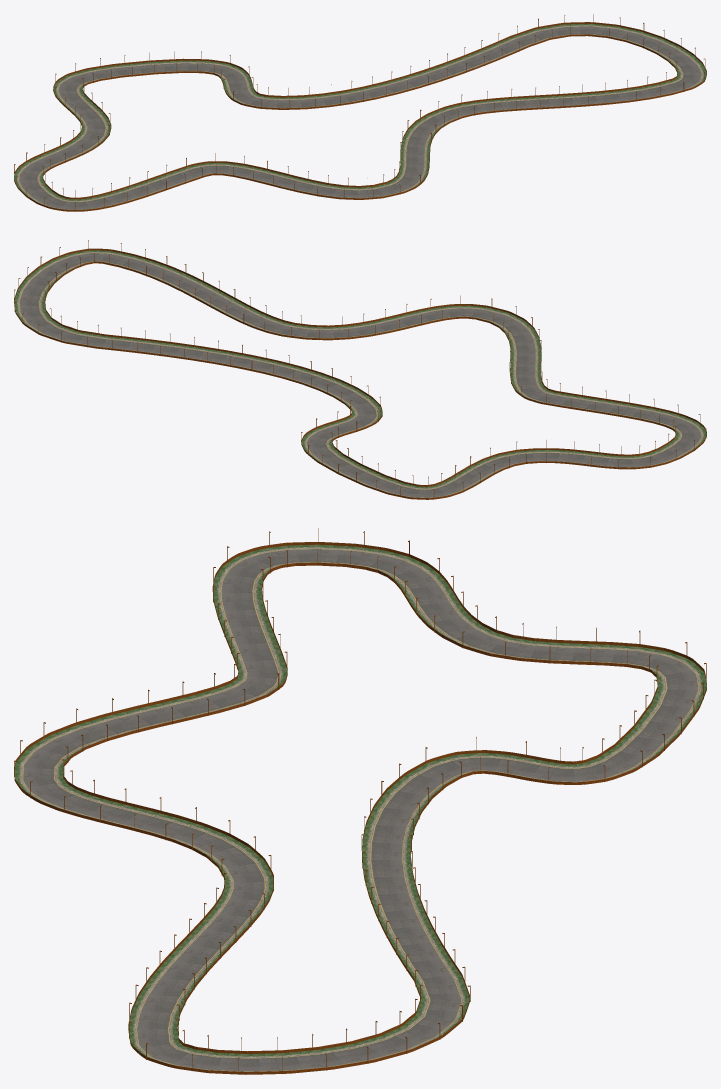
The model's file is track01.fbx.
3 views of the same model, one above another, from view 1: azimuth 30°, elevation 25°; view 2: azimuth 150°, elevation 25°; view 3: azimuth 270°, elevation 25° (orthographic). The views are drawn at different scales.
Visible parts, largest first — view 1: road1, gravel1.001, barrier1.001, gravel2.001, barrier2.001; view 2: road1, gravel1.001, barrier1.001, gravel2.001, barrier2.001; view 3: road1, gravel1.001, gravel2.001, barrier1.001, barrier2.001.
Boxes of the visible parts, x1,y1,x2,y2 form: road1: (19,26,701,209); gravel1.001: (14,23,706,209); barrier1.001: (14,14,706,211); gravel2.001: (37,34,682,201); barrier2.001: (42,26,678,199); road1: (19,253,701,497); gravel1.001: (14,250,706,497); barrier1.001: (14,240,706,499); gravel2.001: (39,261,681,489); barrier2.001: (44,253,676,486); road1: (23,549,697,1071); gravel1.001: (14,544,706,1071); gravel2.001: (54,562,666,1058); barrier1.001: (14,528,706,1074); barrier2.001: (61,548,658,1053).
Size of the model in its own units: 23785 by 354 by 13136.
